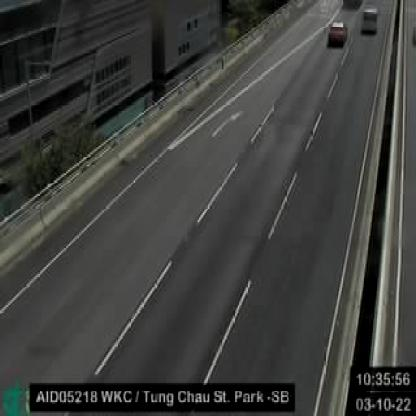Car: (327, 19, 346, 47), (361, 7, 377, 33)
